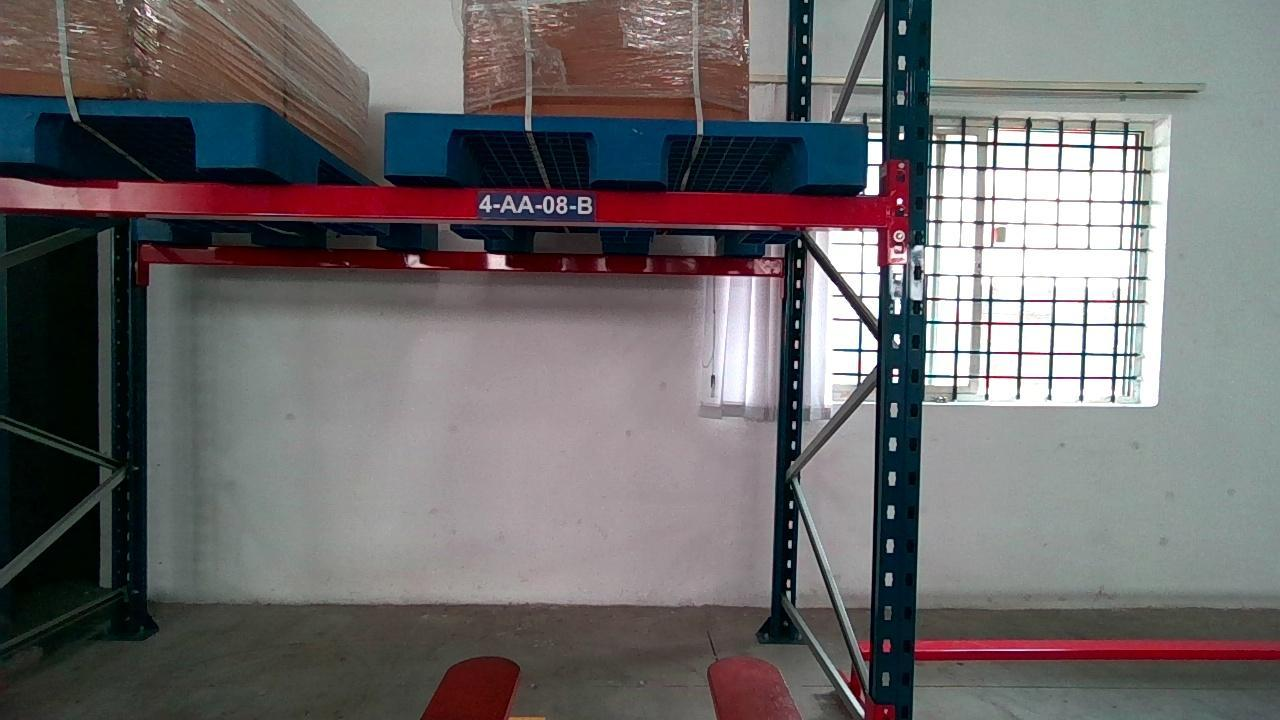h_rack: (1, 176, 890, 228)
small_pallet: (379, 107, 864, 183)
